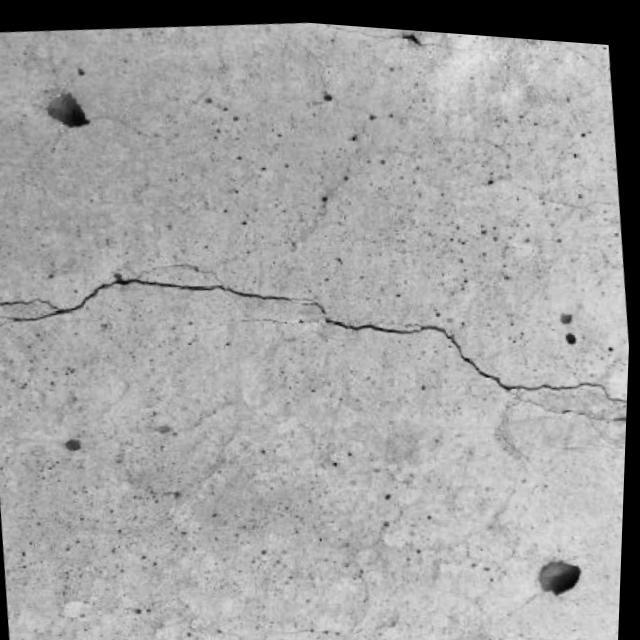Crack: (3, 259, 620, 419)
